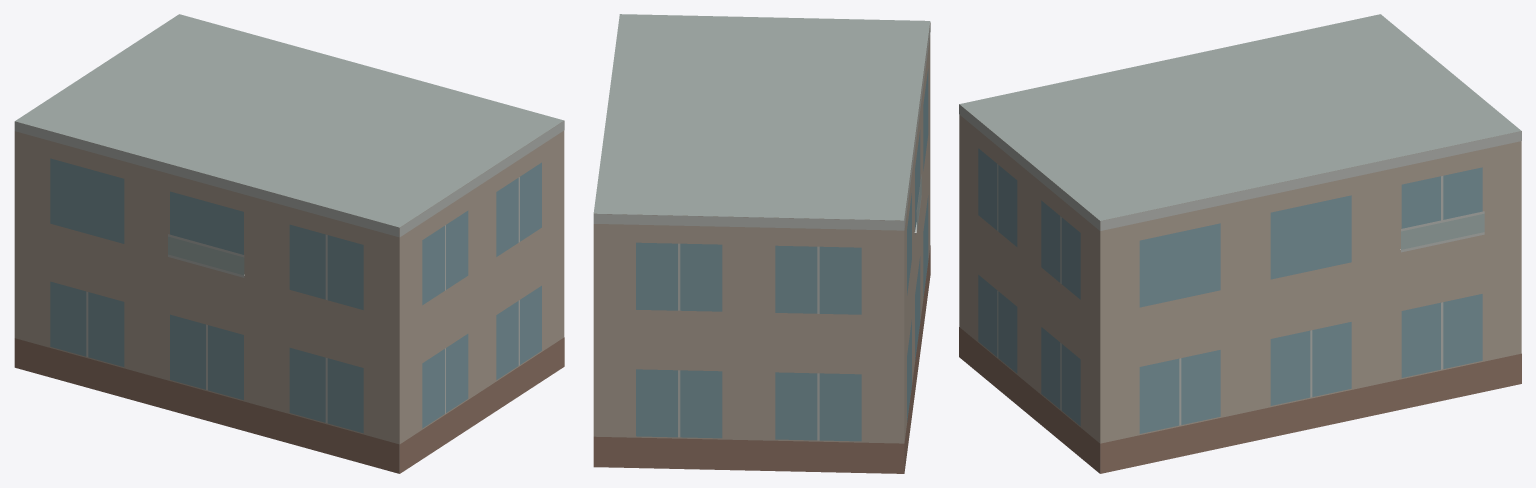
The model's file is survey-upis-32719302.glb.
The picture shows the model from 3 angles, left to right: view 1: azimuth 30°, elevation 25°; view 2: azimuth 150°, elevation 25°; view 3: azimuth 270°, elevation 25°; orthographic projection. The views are drawn at different scales.
Parts seen in each view (by area): view 1: survey-upis-32719302.tmp; view 2: survey-upis-32719302.tmp; view 3: survey-upis-32719302.tmp.
Part boxes in pixels (x1=…): survey-upis-32719302.tmp: x1=14, y1=14, x2=564, y2=473; survey-upis-32719302.tmp: x1=593, y1=14, x2=930, y2=473; survey-upis-32719302.tmp: x1=959, y1=14, x2=1521, y2=473.
Bounding box in the file's own units: 10.72 × 6.1 × 12.31.
